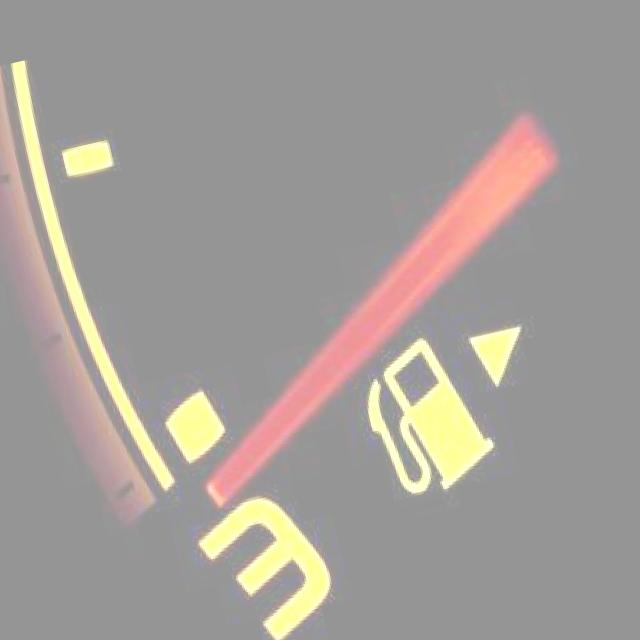kontrolka: (338, 313, 508, 530)
